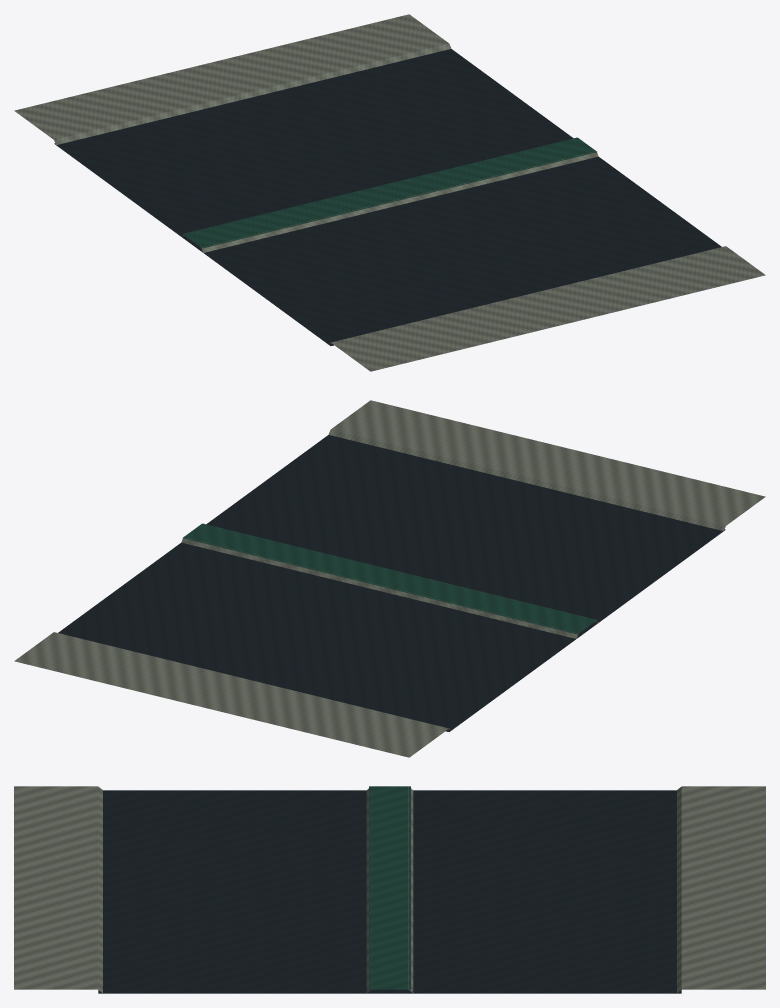
Rendered from road_arterial_6lane_16m_ShadowProxy.glb.
3 renders of one model, top to bottom at view 1: azimuth 30°, elevation 25°; view 2: azimuth 150°, elevation 25°; view 3: azimuth 270°, elevation 25°, orthographic. The views are drawn at different scales.
Visible parts, largest first — view 1: road_arterial_6lane_16m__surface.003; view 2: road_arterial_6lane_16m__surface.003; view 3: road_arterial_6lane_16m__surface.003.
Part boxes in pixels (bbox=[...]): road_arterial_6lane_16m__surface.003: bbox=[14, 14, 765, 371]; road_arterial_6lane_16m__surface.003: bbox=[14, 400, 765, 757]; road_arterial_6lane_16m__surface.003: bbox=[14, 786, 765, 993].
Bounding box in the file's own units: 16 × 0.15 × 25.
4 materials, 4 textured.
